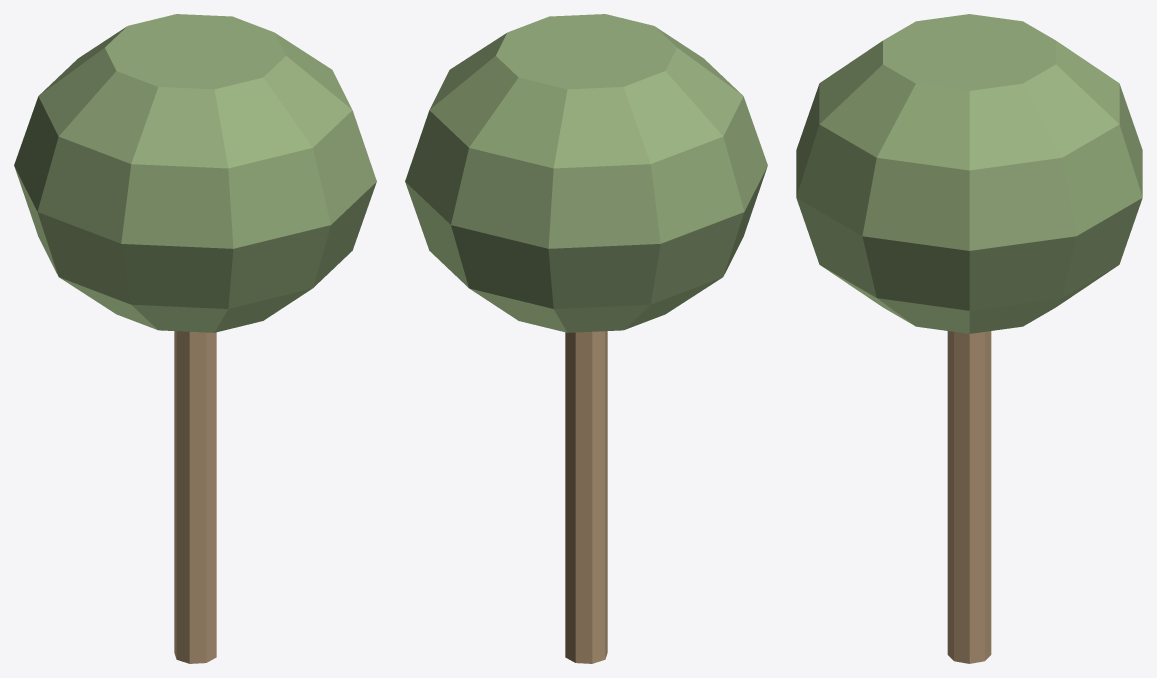
File: oak-arch-14.glb
3 renders of one model, left to right at view 1: azimuth 30°, elevation 25°; view 2: azimuth 150°, elevation 25°; view 3: azimuth 270°, elevation 25°, orthographic.
Parts seen in each view (by area): view 1: living roof, timber; view 2: living roof, timber; view 3: living roof, timber.
Boxes of the visible parts, x1=… form: living roof: x1=14, y1=14, x2=376, y2=332; timber: x1=174, y1=331, x2=216, y2=663; living roof: x1=405, y1=14, x2=767, y2=332; timber: x1=565, y1=331, x2=607, y2=663; living roof: x1=796, y1=14, x2=1142, y2=333; timber: x1=947, y1=331, x2=991, y2=663.
Size of the model in its own units: 7.15 by 13.45 by 6.8.
